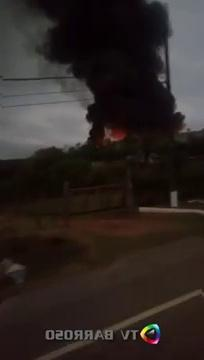smoke: (75, 14, 143, 78)
